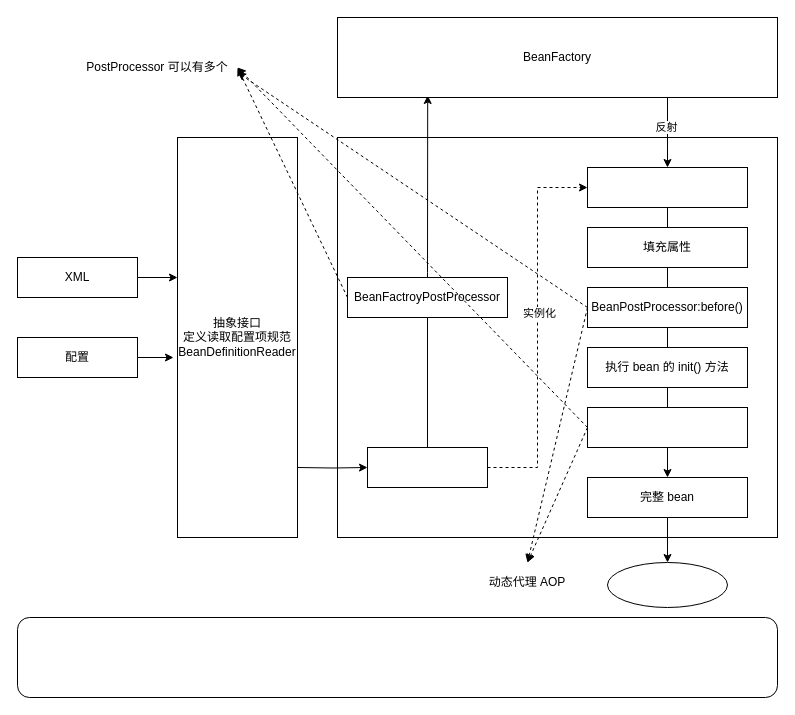
Some shapes in this 795 by 715 pixel diagram are drawn without their labels. Each missing label, with the centre of its shape:
bean 元数据信息 BeanDefinition: (427,467)
BeanPostProcessor:after(): (667,427)
Environment，Listener: (397,657)
getBean(): (667,585)
实例化 bean: (667,187)
